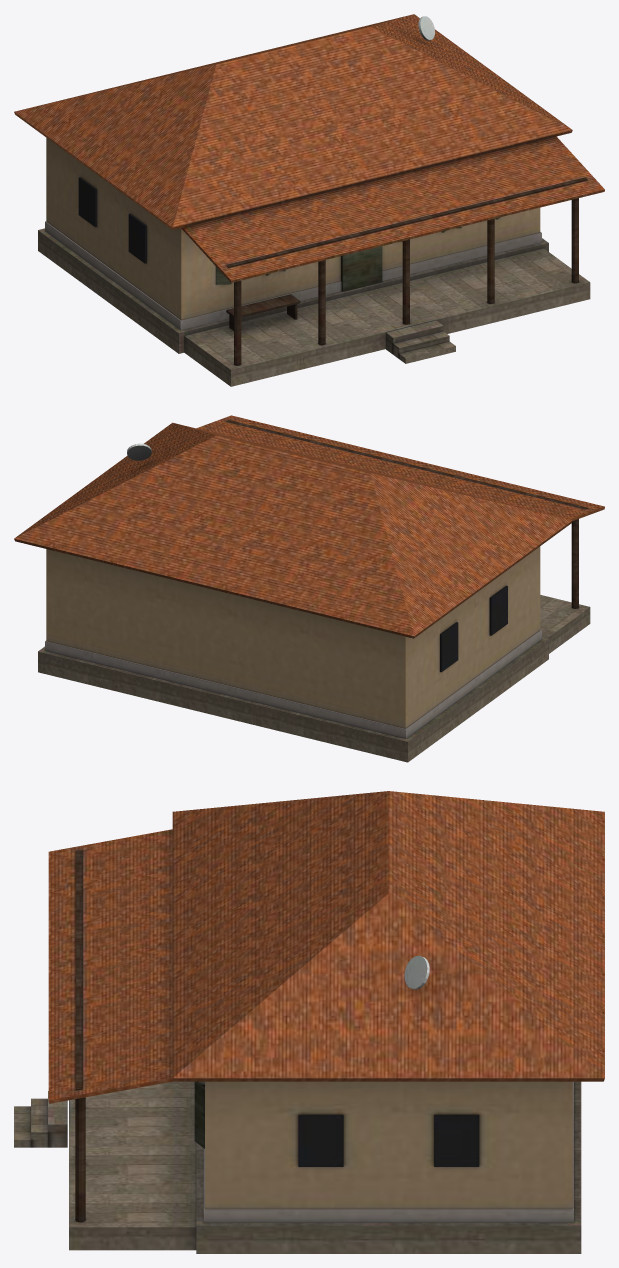
Rendered from farmhouse_b.glb.
3 views of the same model, one above another, from view 1: azimuth 30°, elevation 25°; view 2: azimuth 150°, elevation 25°; view 3: azimuth 270°, elevation 25° (orthographic). The views are drawn at different scales.
Visible parts, largest first — view 1: farmhouse; view 2: farmhouse; view 3: farmhouse.
Part boxes in pixels (box(x1,y1,x2,y2)): farmhouse: box(14, 14, 604, 386); farmhouse: box(14, 415, 604, 762); farmhouse: box(14, 791, 604, 1253).
Size of the model in its own units: 11.14 by 5.63 by 10.45.
1 material, 1 textured.
